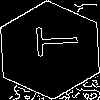T: (25, 25, 79, 58)
